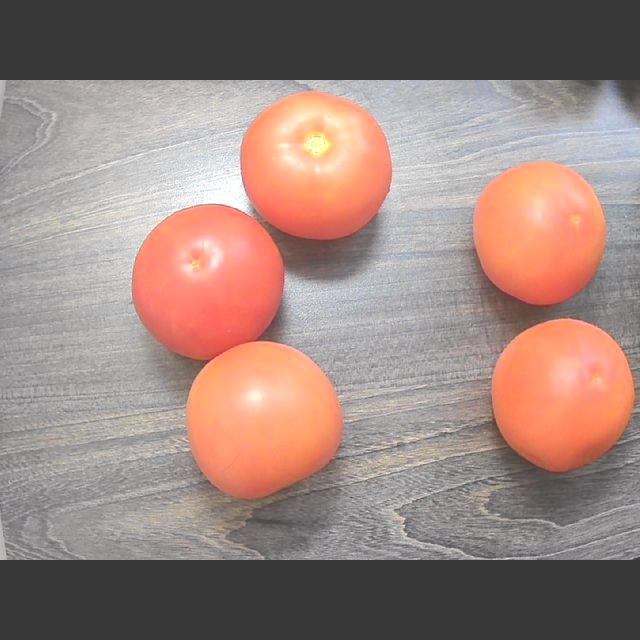tomate: (187, 341, 342, 498), (132, 204, 284, 359), (241, 92, 391, 239), (492, 320, 634, 471), (473, 161, 606, 304)
